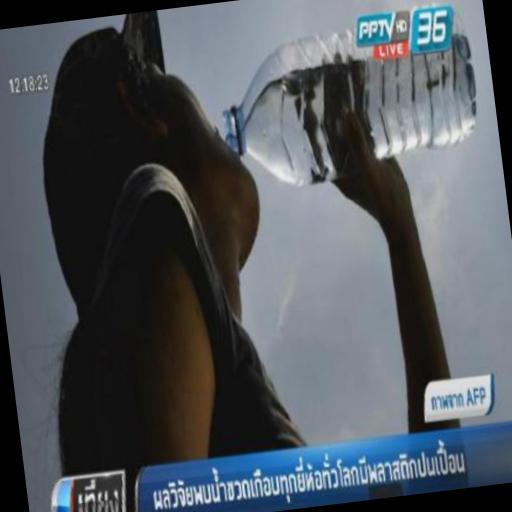Coca: (197, 0, 492, 206)
